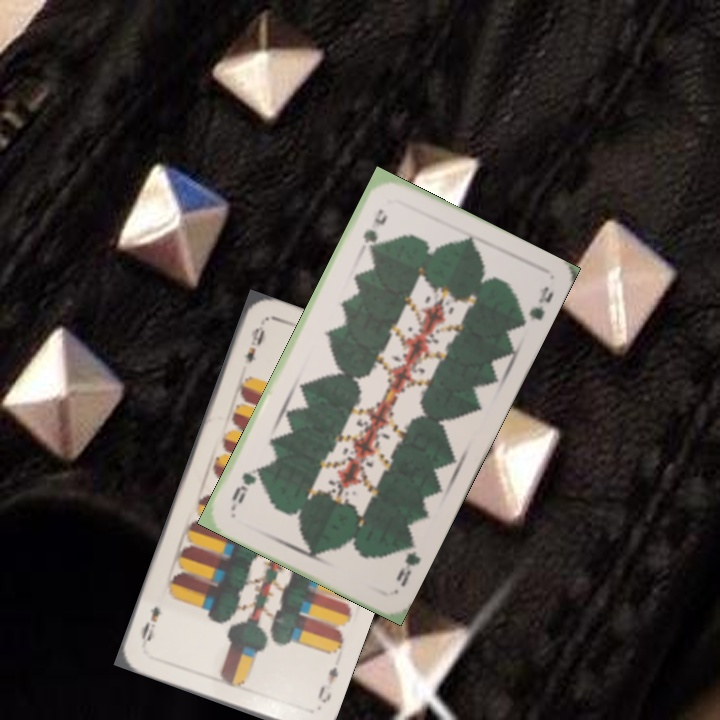E9: (313, 662, 341, 706), (242, 322, 268, 365)
G9: (391, 536, 424, 590), (359, 204, 389, 253)
